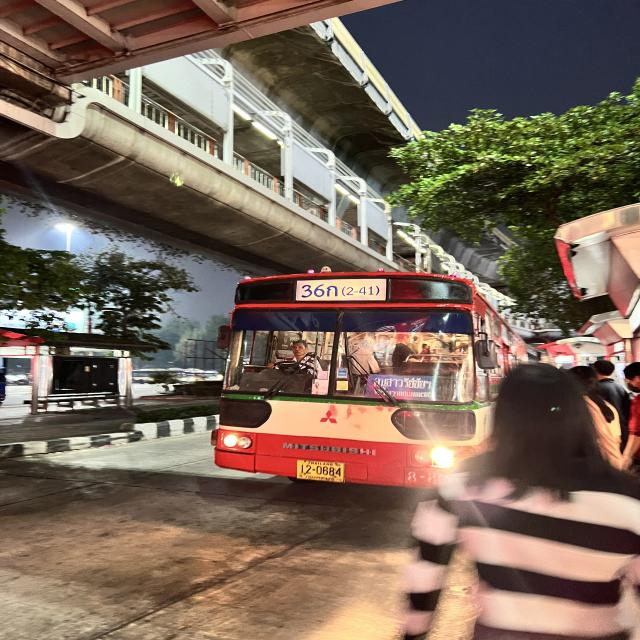BMTA-bus: (212, 271, 544, 490)
Bus Line Number: (295, 277, 390, 305)
Bus Side Number: (403, 468, 451, 486)
Destination Sign: (366, 374, 440, 401)
